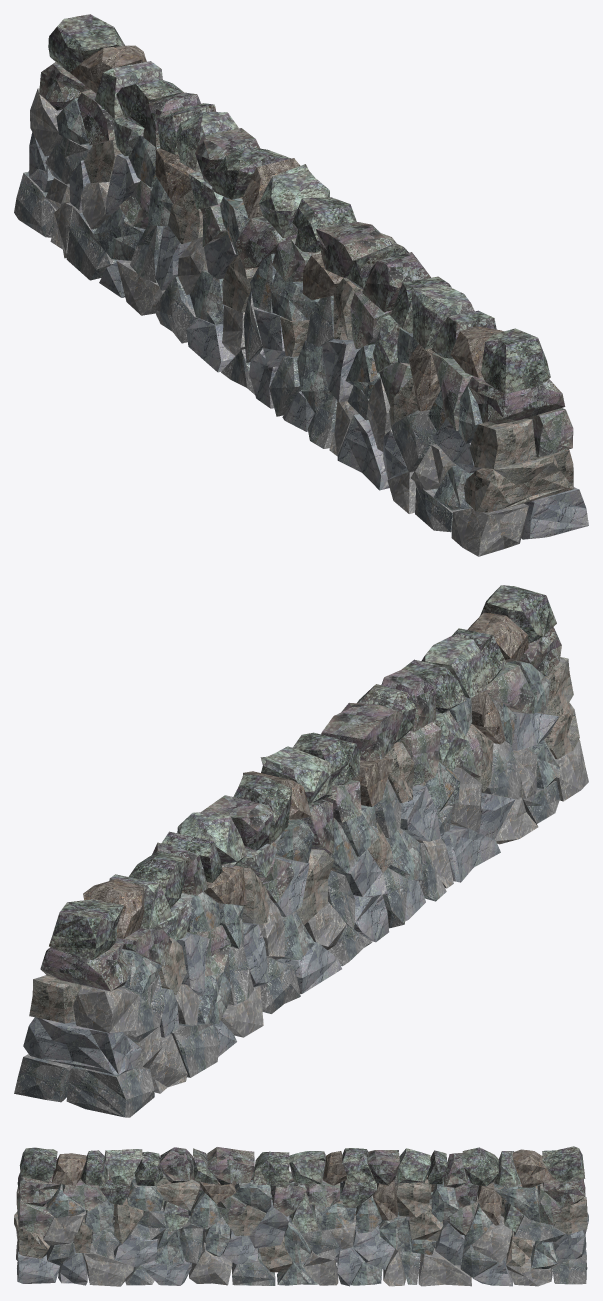
File: Rockwall.fbx
3 views of the same model, one above another, from view 1: azimuth 30°, elevation 25°; view 2: azimuth 150°, elevation 25°; view 3: azimuth 270°, elevation 25° (orthographic). The views are drawn at different scales.
Parts seen in each view (by area): view 1: 3DGeom~53, 3DGeom~88, 3DGeom~37, 3DGeom~87, 3DGeom~161, 3DGeom~168, 3DGeom~159, 3DGeom~93, 3DGeom~20, 3DGeom~91, 3DGeom~154, 3DGeom~94 (+81 smaller); view 2: 3DGeom~4, 3DGeom~21, 3DGeom~159, 3DGeom~93, 3DGeom~72, 3DGeom~169, 3DGeom~88, 3DGeom~161, 3DGeom~91, 3DGeom~170, 3DGeom~1, 3DGeom~162 (+81 smaller); view 3: 3DGeom~93, 3DGeom~7, 3DGeom~18, 3DGeom~159, 3DGeom~94, 3DGeom~15, 3DGeom~40, 3DGeom~99, 3DGeom~63, 3DGeom~91, 3DGeom~167, 3DGeom~88 (+85 smaller).
Part boxes in pixels (left/top/right/bottom): 3DGeom~53: left=464, top=449, right=574, bottom=512; 3DGeom~88: left=481, top=328, right=550, bottom=393; 3DGeom~37: left=451, top=503, right=528, bottom=556; 3DGeom~87: left=467, top=376, right=565, bottom=424; 3DGeom~161: left=259, top=164, right=329, bottom=238; 3DGeom~168: left=469, top=418, right=536, bottom=468; 3DGeom~159: left=48, top=14, right=124, bottom=72; 3DGeom~93: left=315, top=222, right=396, bottom=277; 3DGeom~20: left=521, top=487, right=588, bottom=539; 3DGeom~91: left=411, top=285, right=474, bottom=349; 3DGeom~154: left=362, top=252, right=430, bottom=312; 3DGeom~94: left=292, top=197, right=356, bottom=252; 3DGeom~4: left=23, top=1017, right=141, bottom=1074; 3DGeom~21: left=66, top=1066, right=154, bottom=1117; 3DGeom~159: left=49, top=899, right=123, bottom=960; 3DGeom~93: left=321, top=702, right=403, bottom=760; 3DGeom~72: left=40, top=938, right=128, bottom=991; 3DGeom~169: left=73, top=985, right=138, bottom=1032; 3DGeom~88: left=480, top=585, right=556, bottom=643; 3DGeom~161: left=260, top=746, right=332, bottom=803; 3DGeom~91: left=421, top=636, right=486, bottom=698; 3DGeom~170: left=177, top=812, right=247, bottom=867; 3DGeom~1: left=14, top=1054, right=75, bottom=1102; 3DGeom~162: left=201, top=795, right=273, bottom=850; 3DGeom~93: left=207, top=1147, right=254, bottom=1184; 3DGeom~7: left=418, top=1248, right=471, bottom=1286; 3DGeom~18: left=83, top=1244, right=133, bottom=1286; 3DGeom~159: left=542, top=1146, right=585, bottom=1183; 3DGeom~94: left=253, top=1151, right=289, bottom=1187; 3DGeom~15: left=189, top=1242, right=232, bottom=1285; 3DGeom~40: left=353, top=1225, right=394, bottom=1269; 3DGeom~99: left=462, top=1147, right=498, bottom=1186; 3DGeom~63: left=249, top=1199, right=289, bottom=1248; 3DGeom~91: left=104, top=1149, right=142, bottom=1185; 3DGeom~167: left=396, top=1179, right=431, bottom=1217; 3DGeom~88: left=19, top=1147, right=57, bottom=1182.
Size of the model in its own units: 0.7214 by 4.49 by 1.01.
11 materials, 11 textured.
